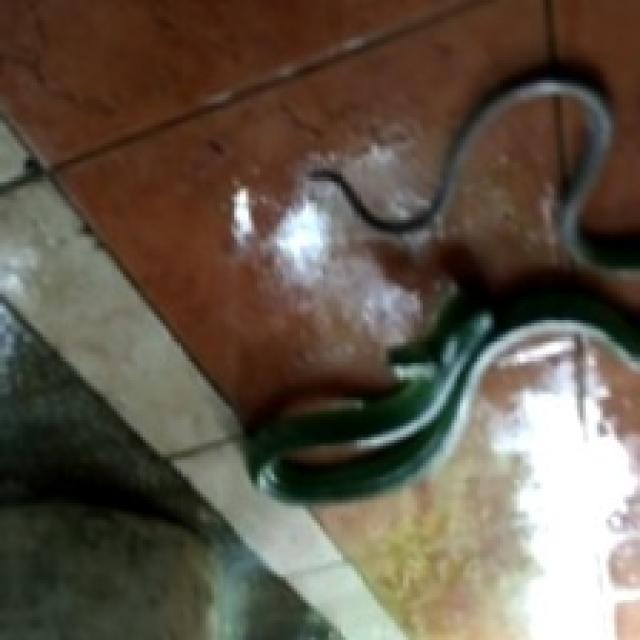red-tailed green ratsnake: (231, 66, 637, 500)
